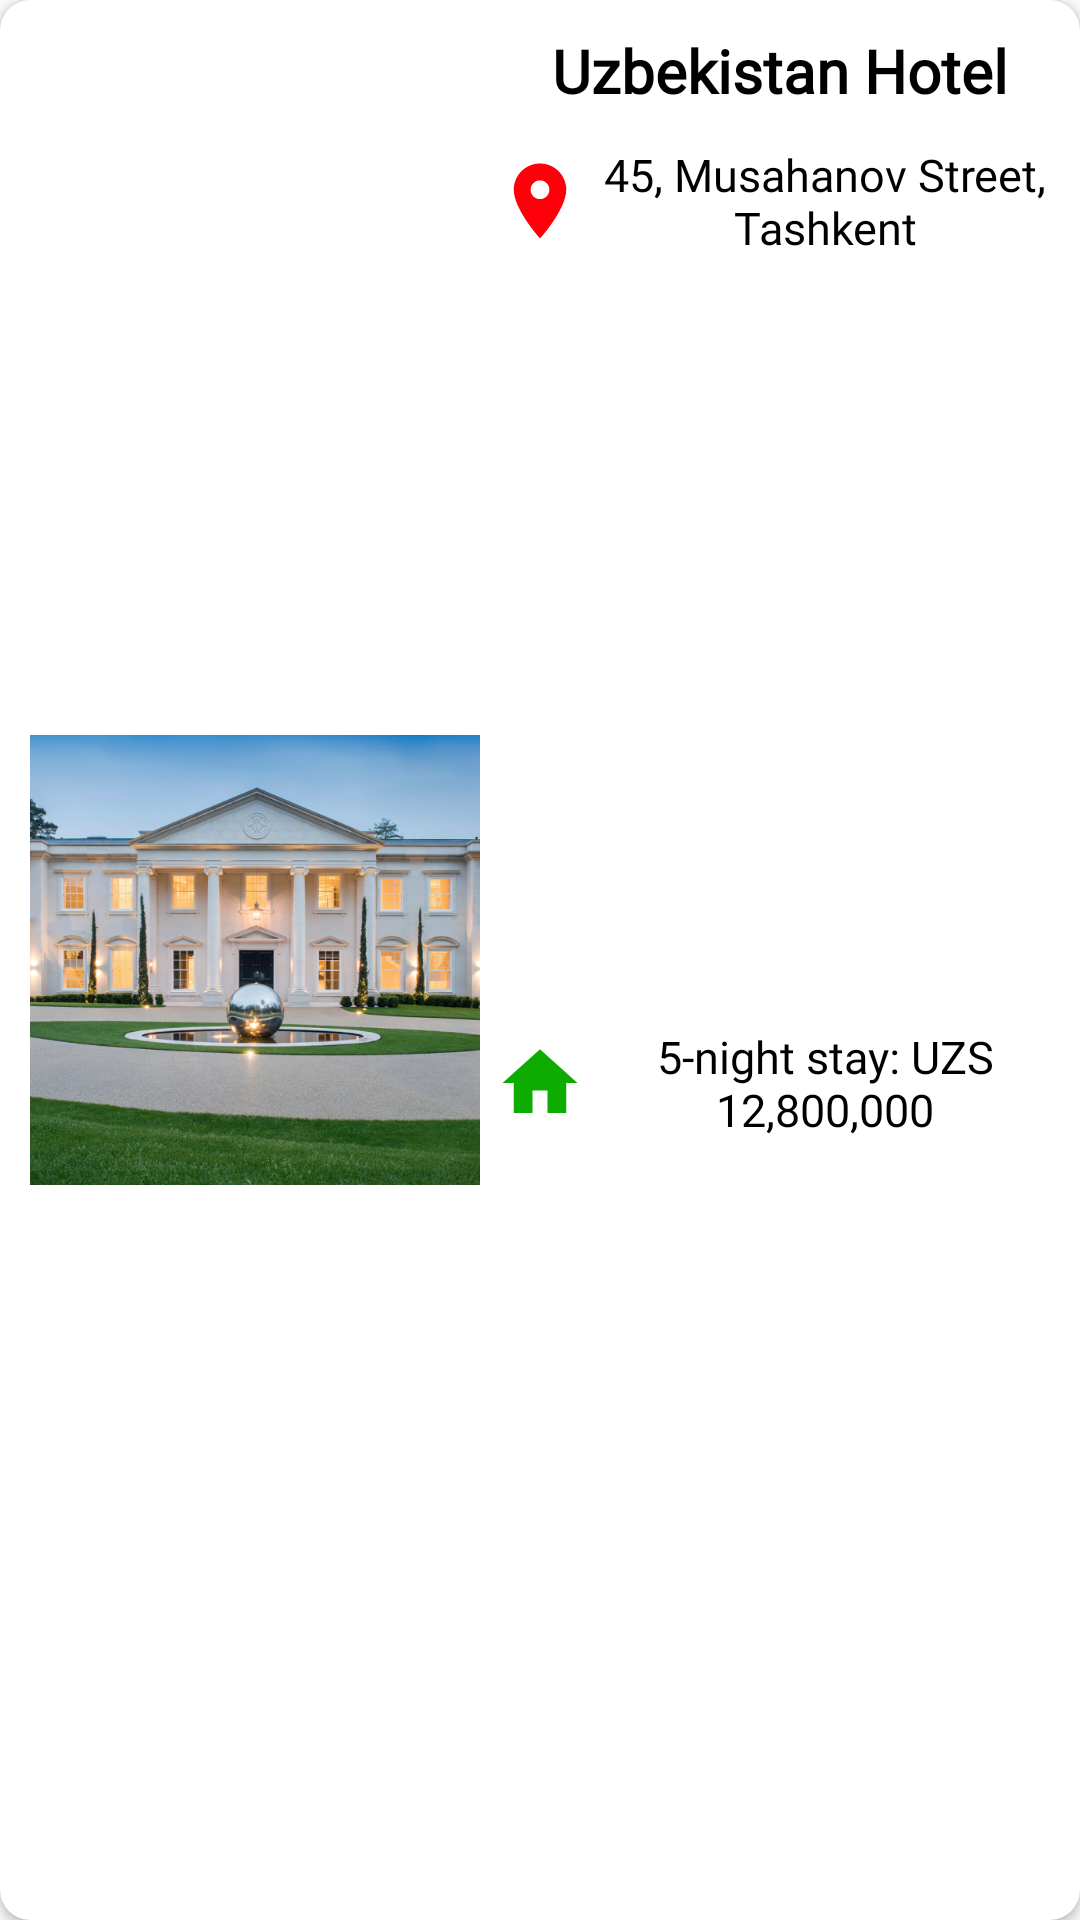

Icon bounding boxes for this 1080px×1920px phone screenshot, format bbox=(x1, y1, x2, y2):
home: bbox=(503, 1049, 577, 1113)
place: bbox=(513, 163, 567, 238)
